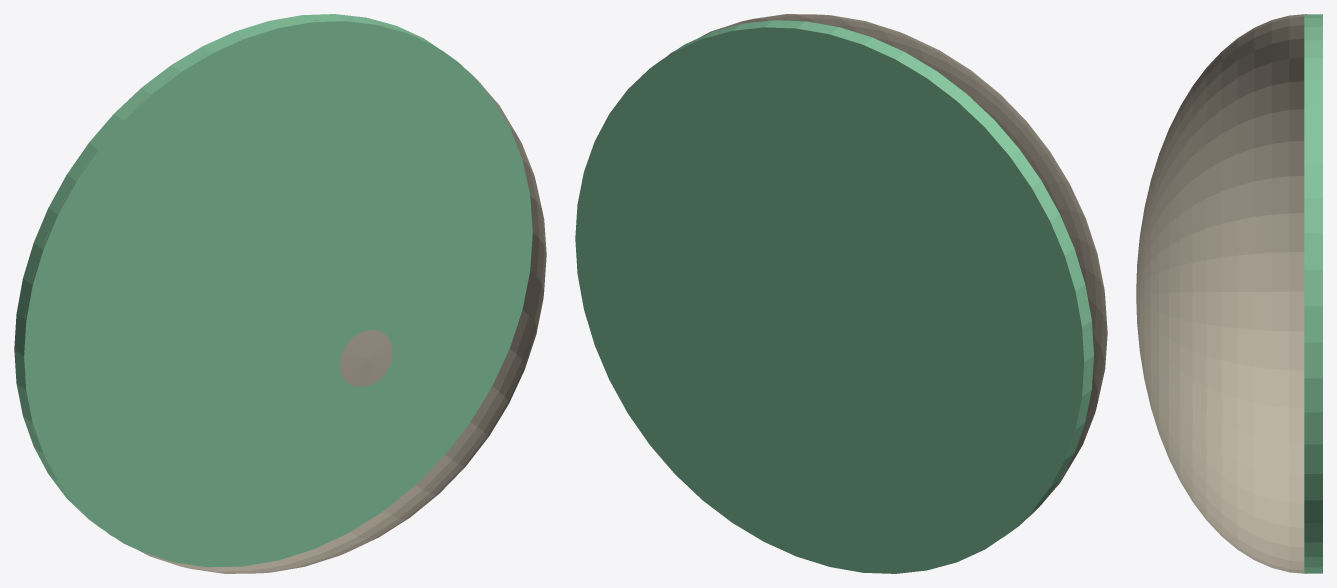
The model's file is testudo.glb.
3 renders of one model, left to right at view 1: azimuth 30°, elevation 25°; view 2: azimuth 150°, elevation 25°; view 3: azimuth 270°, elevation 25°, orthographic. The views are drawn at different scales.
Visible parts, largest first — view 1: base_1, carapace_0; view 2: base_1, carapace_0; view 3: carapace_0, base_1.
Part boxes in pixels (x1,y1,x2,y2): base_1: [14, 14, 532, 567]; carapace_0: [25, 20, 546, 573]; base_1: [575, 20, 1093, 573]; carapace_0: [668, 14, 1107, 536]; carapace_0: [1136, 14, 1306, 573]; base_1: [1304, 14, 1322, 573].
Bounding box in the file's own units: 1.8 × 1.8 × 0.6.
